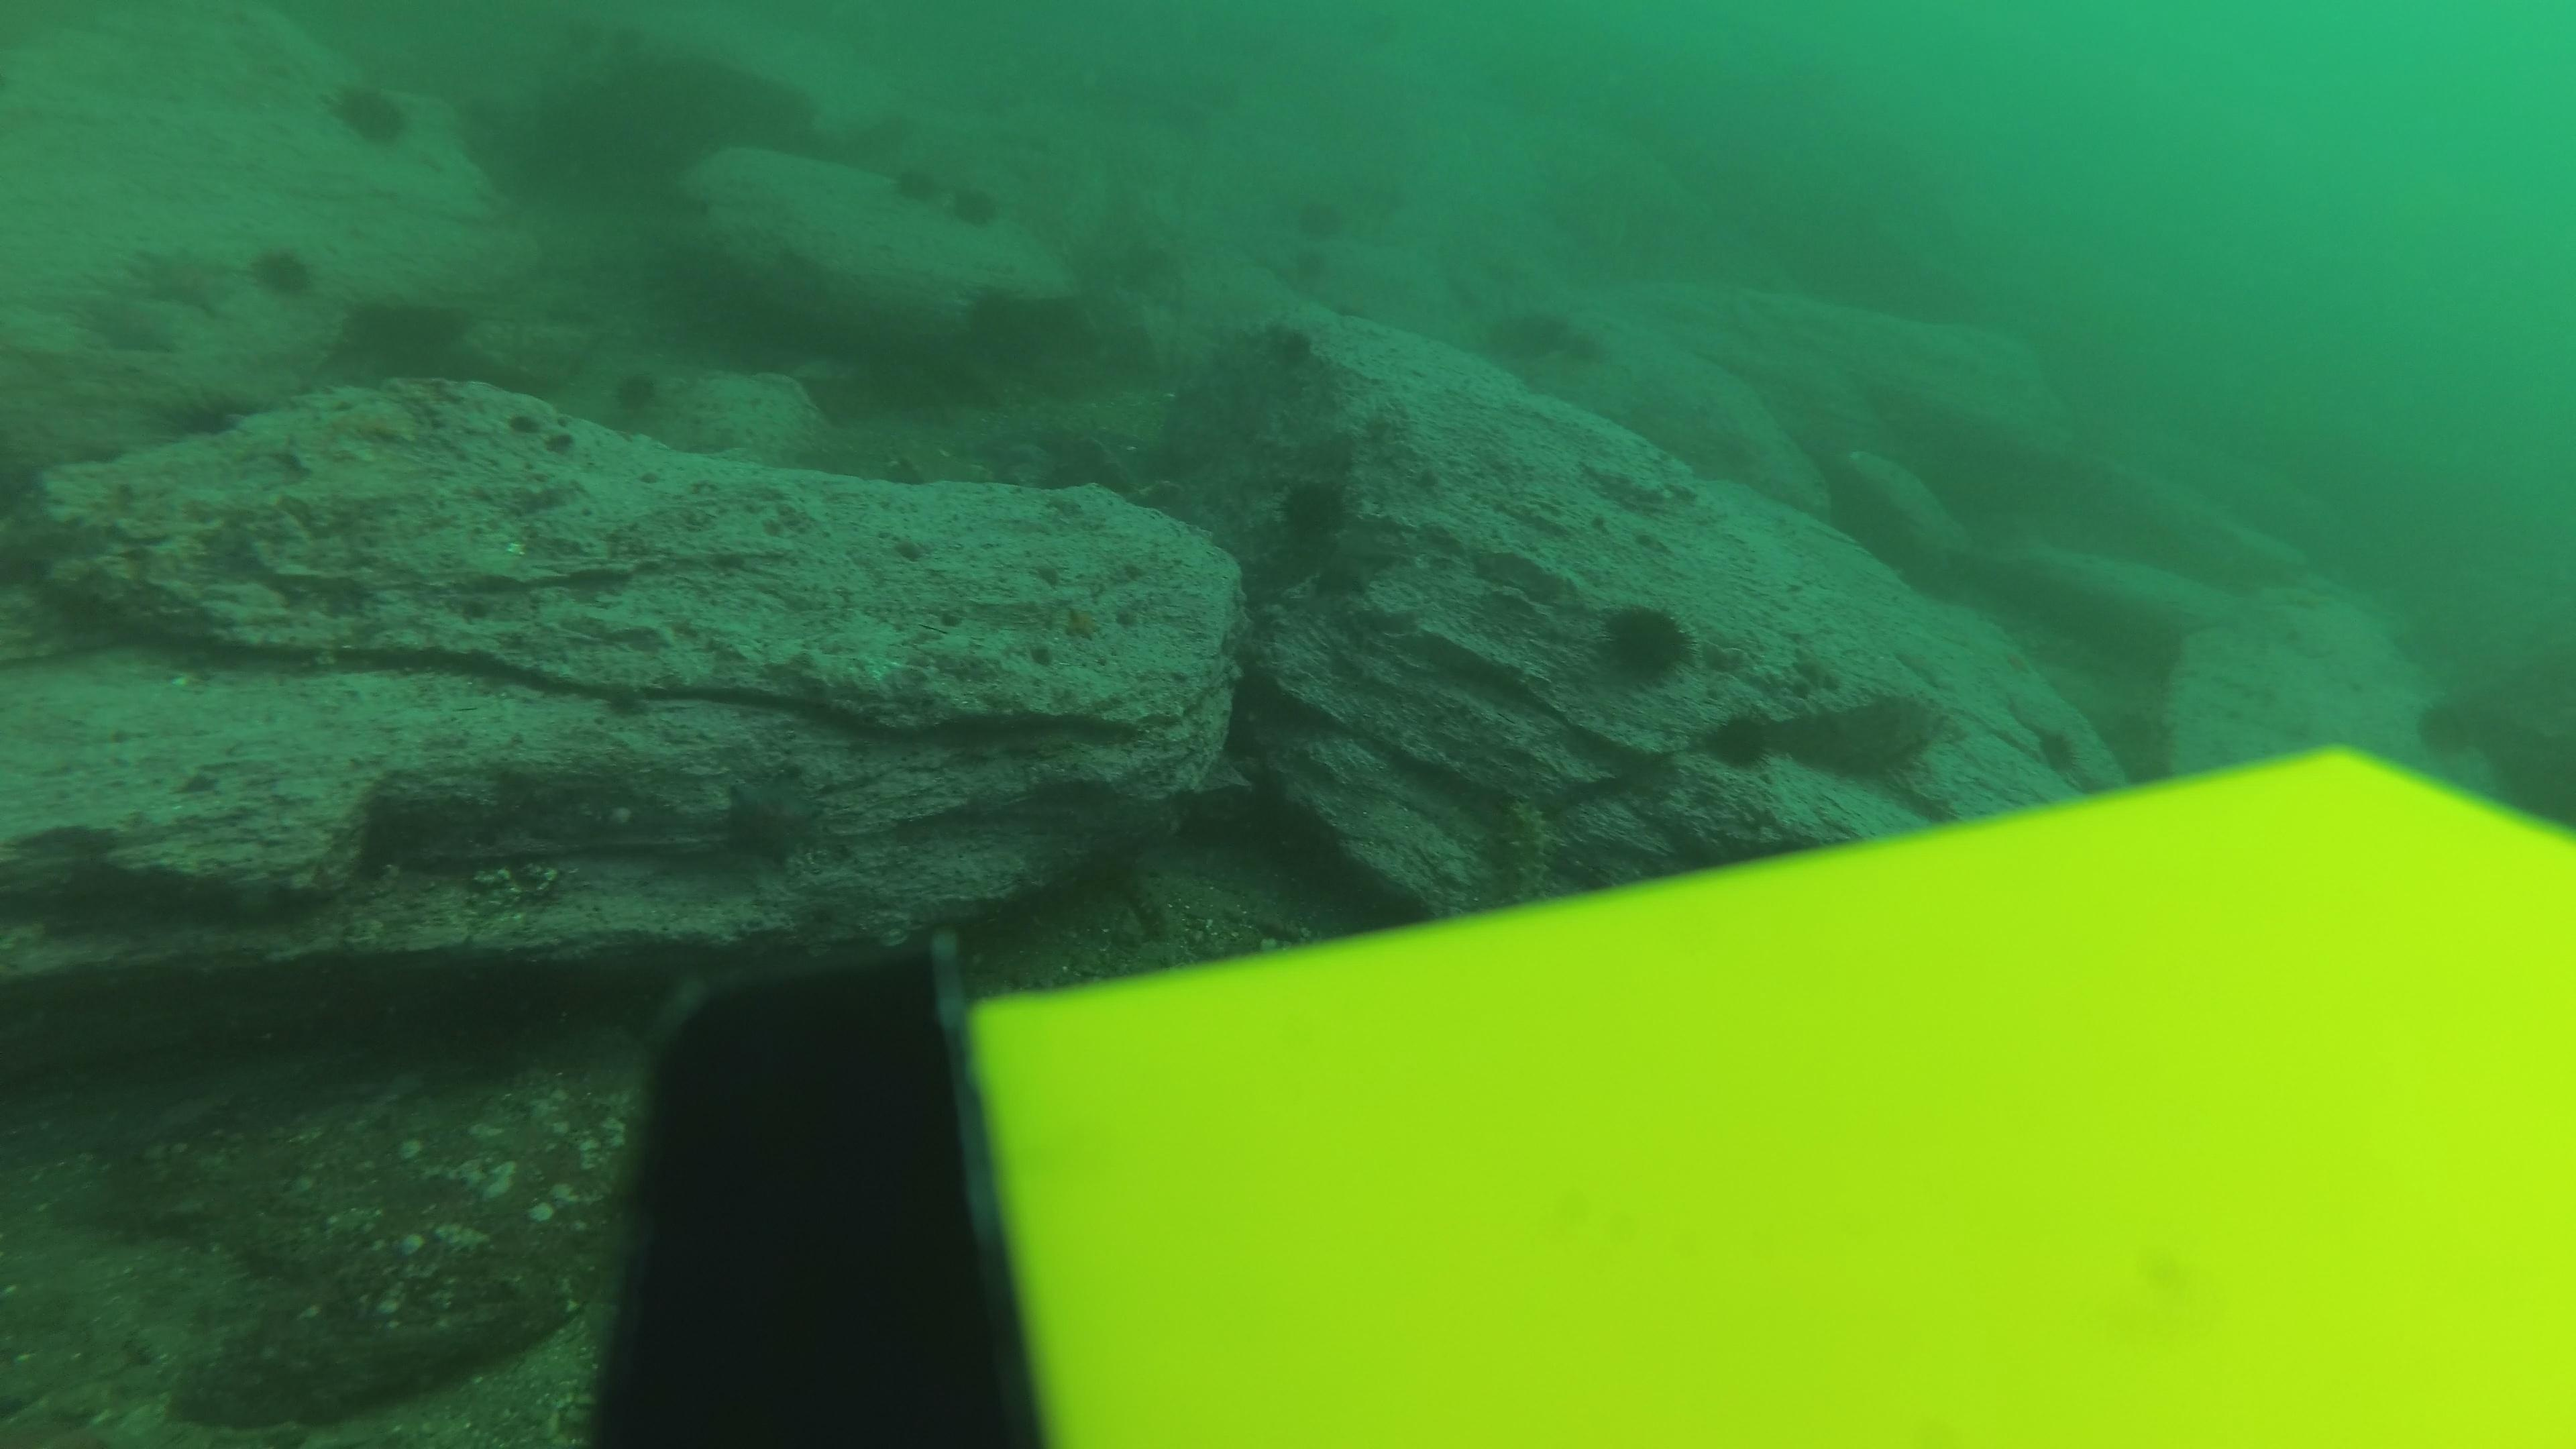echinus: (334, 287, 474, 389), (1477, 295, 1606, 389), (1587, 594, 1704, 692), (1267, 467, 1362, 559), (322, 71, 419, 152), (1698, 704, 1782, 775), (246, 237, 318, 304), (2420, 699, 2495, 752), (596, 361, 663, 418), (885, 157, 945, 203), (955, 184, 1016, 228), (1290, 196, 1350, 241), (1292, 244, 1336, 280)
starfish: (711, 761, 833, 869), (124, 239, 235, 318), (1297, 527, 1403, 602)
